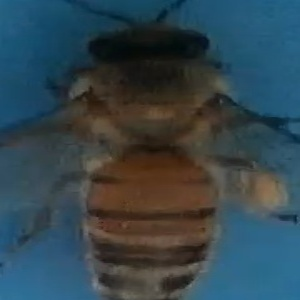bee: (13, 6, 293, 300)
